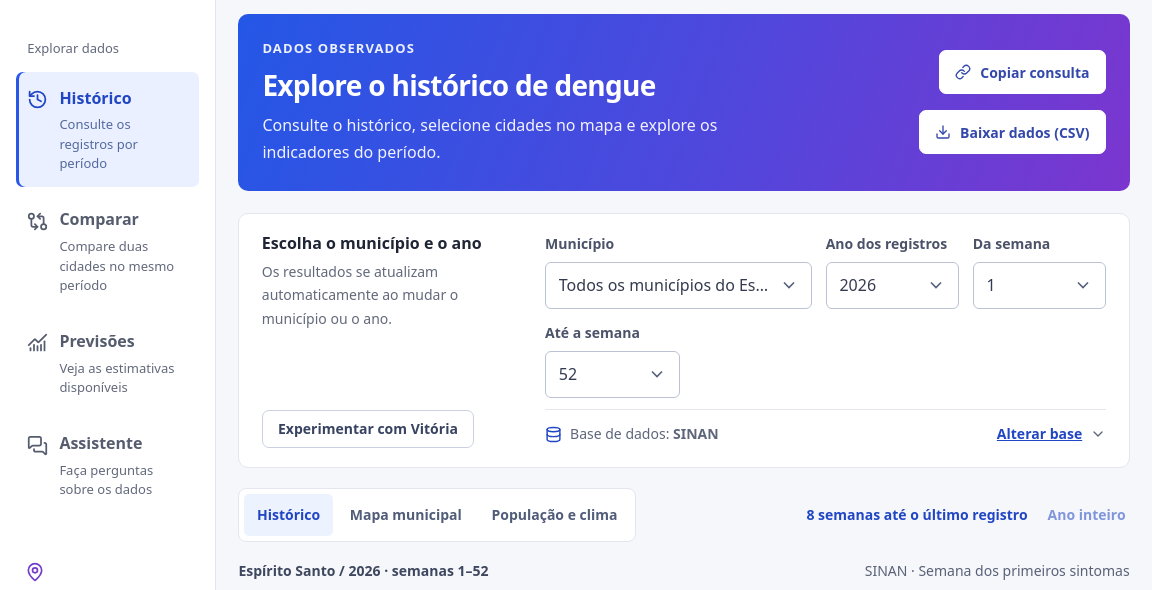
Test case: exploração do dashboard sem serviços externos › seleciona pelo mapa e recorta o período localmente sem repetir a leitura anual
Click the button "Mapa municipal" at (406, 515), box x1=337 y1=494 x2=475 y2=536
(page scrolled)
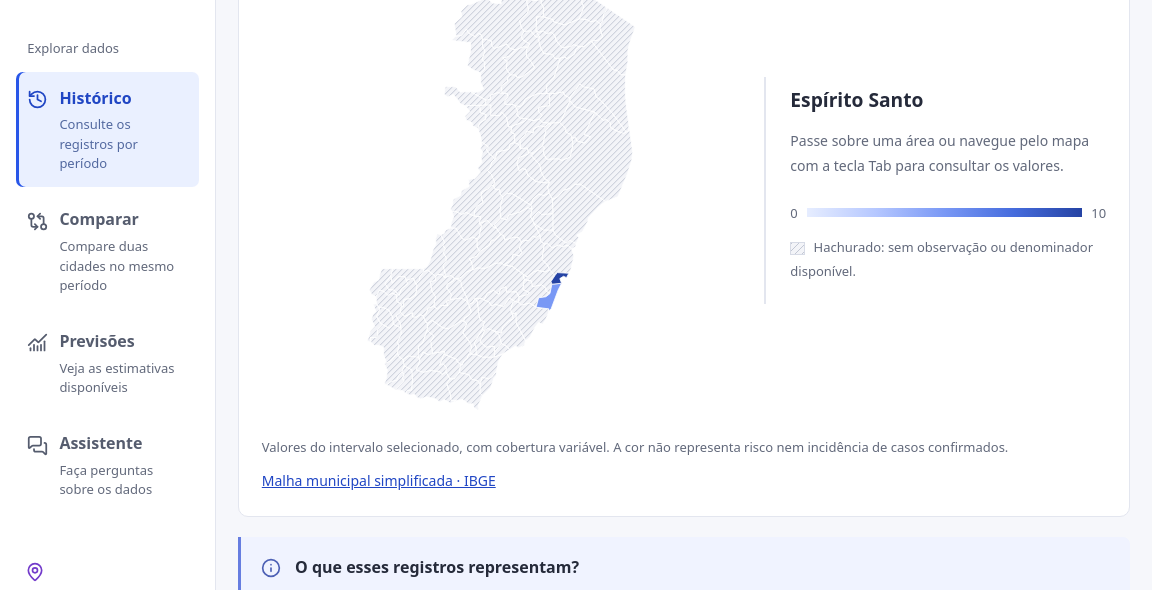
Press Enter in the button "Vitória: 10 registros", box x1=551 y1=273 x2=569 y2=284
(page scrolled)
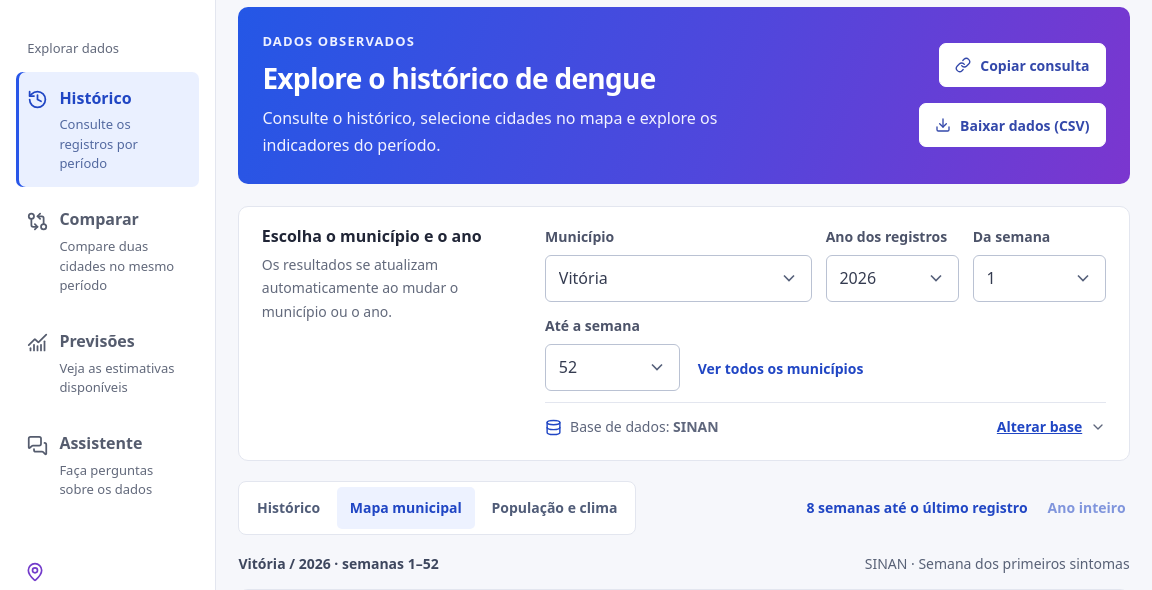
Now the dropdown labelled "Município" shows "Vitória", box x1=545 y1=255 x2=812 y2=302
Select "2" in the dropdown labelled "Da semana" at (1039, 278), box x1=973 y1=255 x2=1106 y2=302
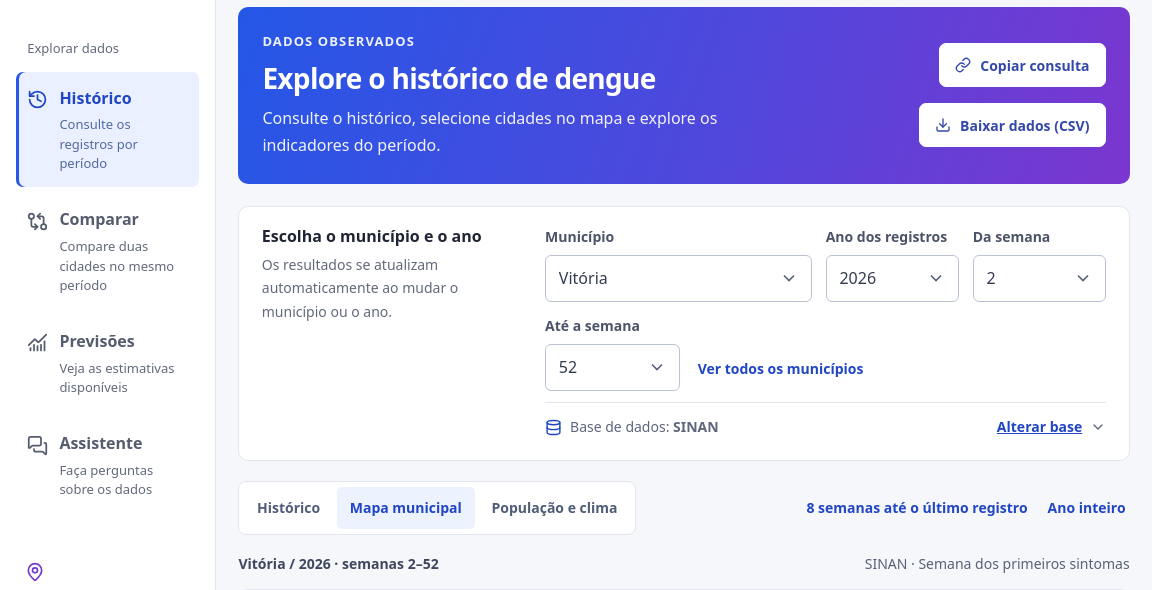
Click the button "Histórico" at (289, 508), box x1=244 y1=487 x2=333 y2=529
(page scrolled)
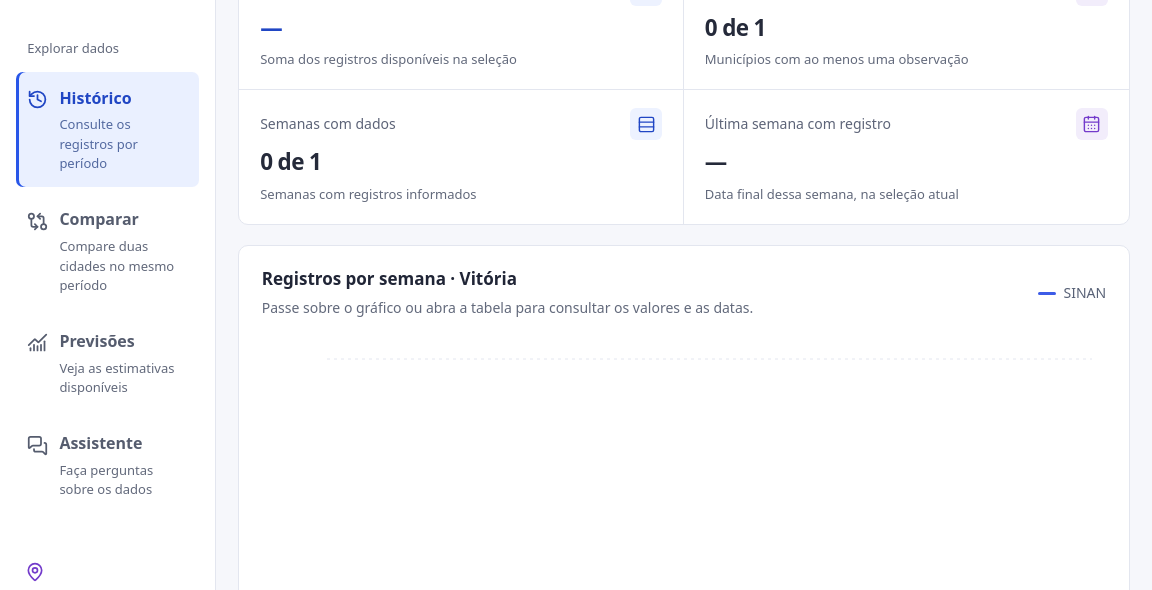
Now the heading "Registros por semana · Vitória" is shown, box x1=262 y1=267 x2=517 y2=290
